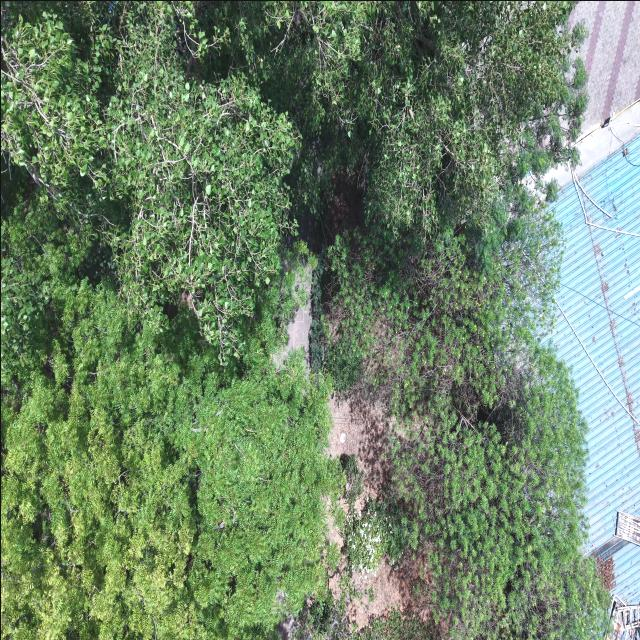DRY_AREA: (569, 1, 639, 178), (569, 1, 639, 133), (569, 1, 639, 131), (329, 395, 394, 510), (329, 554, 429, 628), (329, 396, 389, 510), (329, 395, 392, 499), (346, 558, 430, 629), (347, 560, 411, 629), (273, 270, 312, 366), (274, 269, 312, 365), (285, 269, 312, 363), (286, 298, 312, 363)
ROOFTOP_BUILDING: (551, 1, 639, 606), (550, 136, 639, 603)
VEGETATION_TREE: (1, 1, 607, 639), (1, 1, 585, 355), (1, 192, 341, 638), (325, 202, 609, 639), (1, 280, 340, 639), (1, 3, 296, 360), (200, 1, 586, 238), (394, 350, 609, 639), (326, 188, 560, 414), (1, 169, 111, 403), (345, 501, 409, 574)
